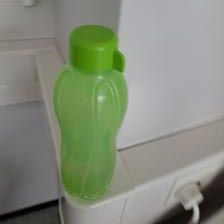bottle: (57, 24, 128, 201)
